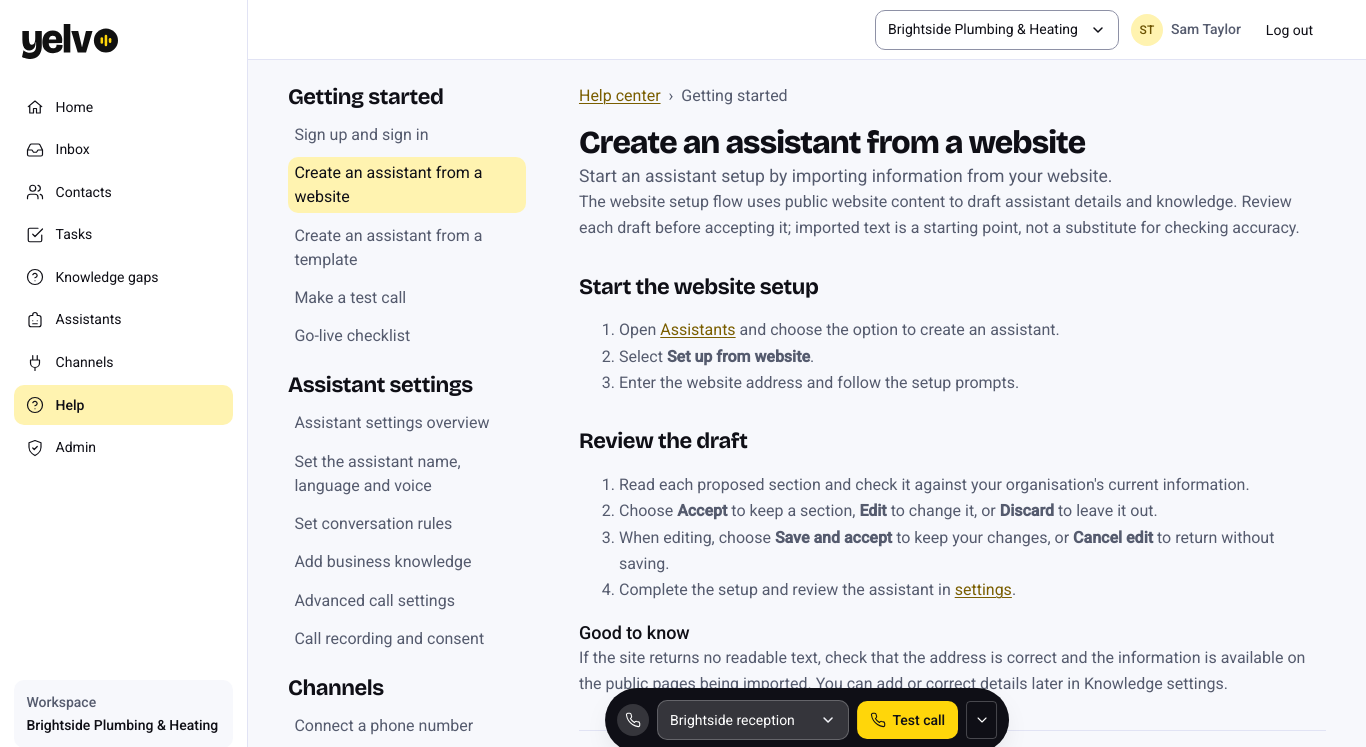
help centre pages › navigates internal Markdown links in the app
Click the link "Assistants" next to "Open": (698, 330) [660,320,736,339]
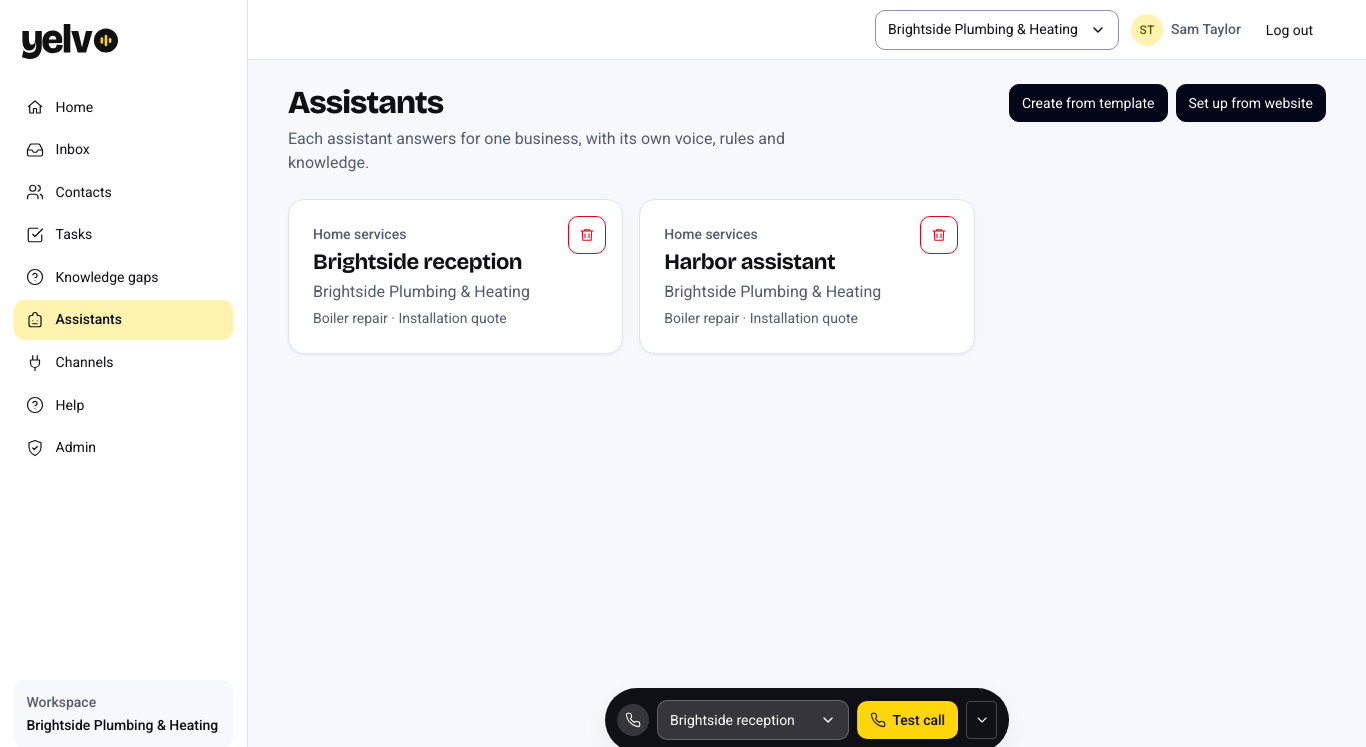
Expected: the heading "Assistants" is shown, [288,83,443,122]
